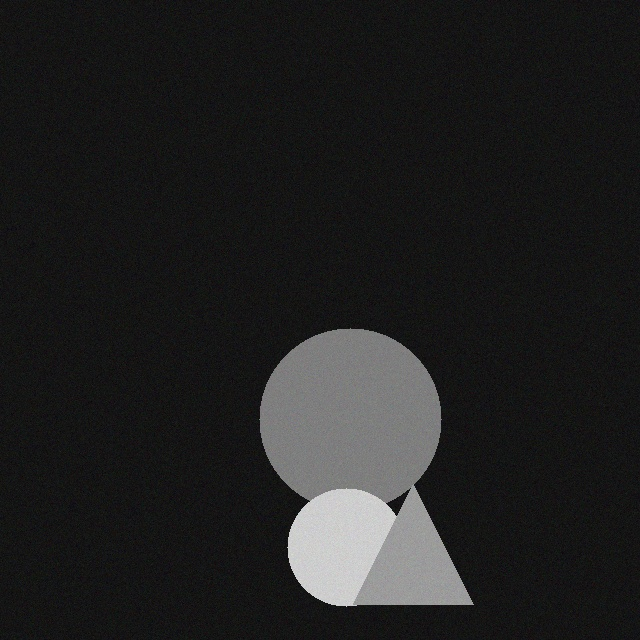circle: (271, 336, 453, 518), (299, 496, 417, 614)
triangle: (365, 492, 485, 612)
